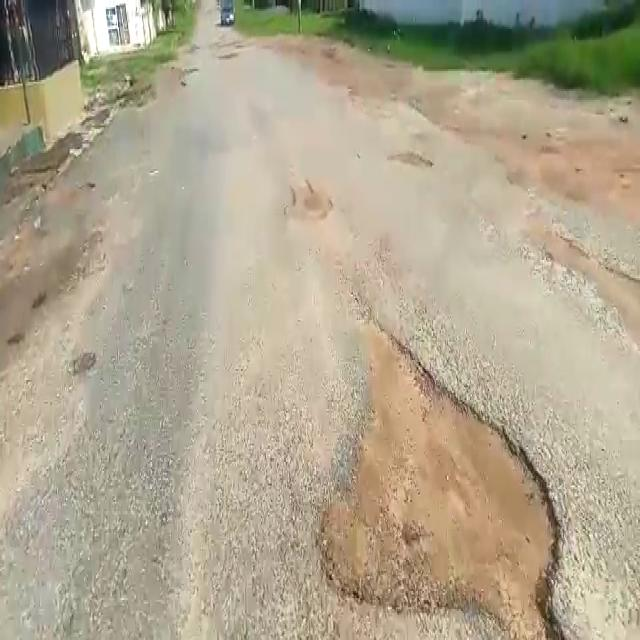Pothole: (312, 325, 578, 633), (284, 181, 334, 224), (388, 148, 436, 172)
